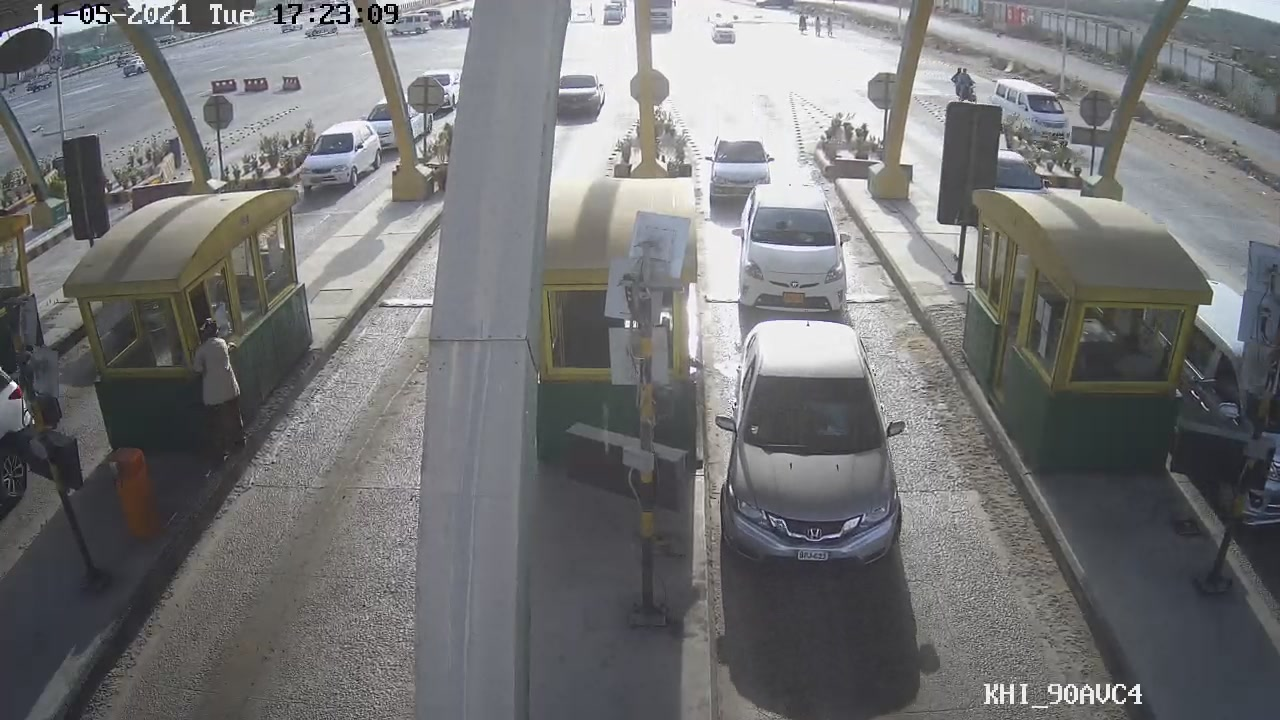F1: (717, 311, 911, 576), (728, 180, 873, 318)
